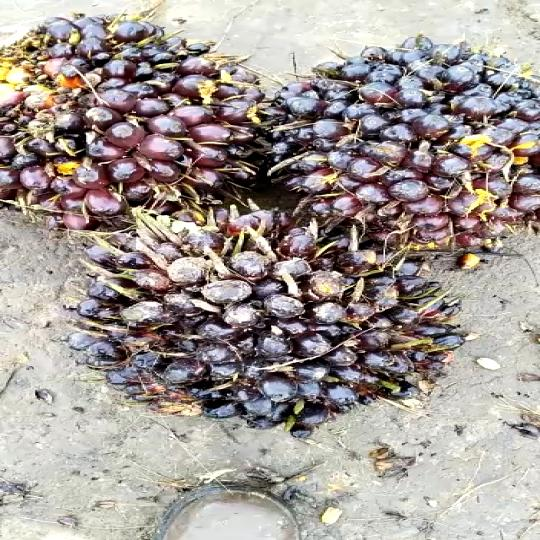mentah: (74, 210, 460, 439), (256, 34, 540, 249), (0, 4, 271, 225)
